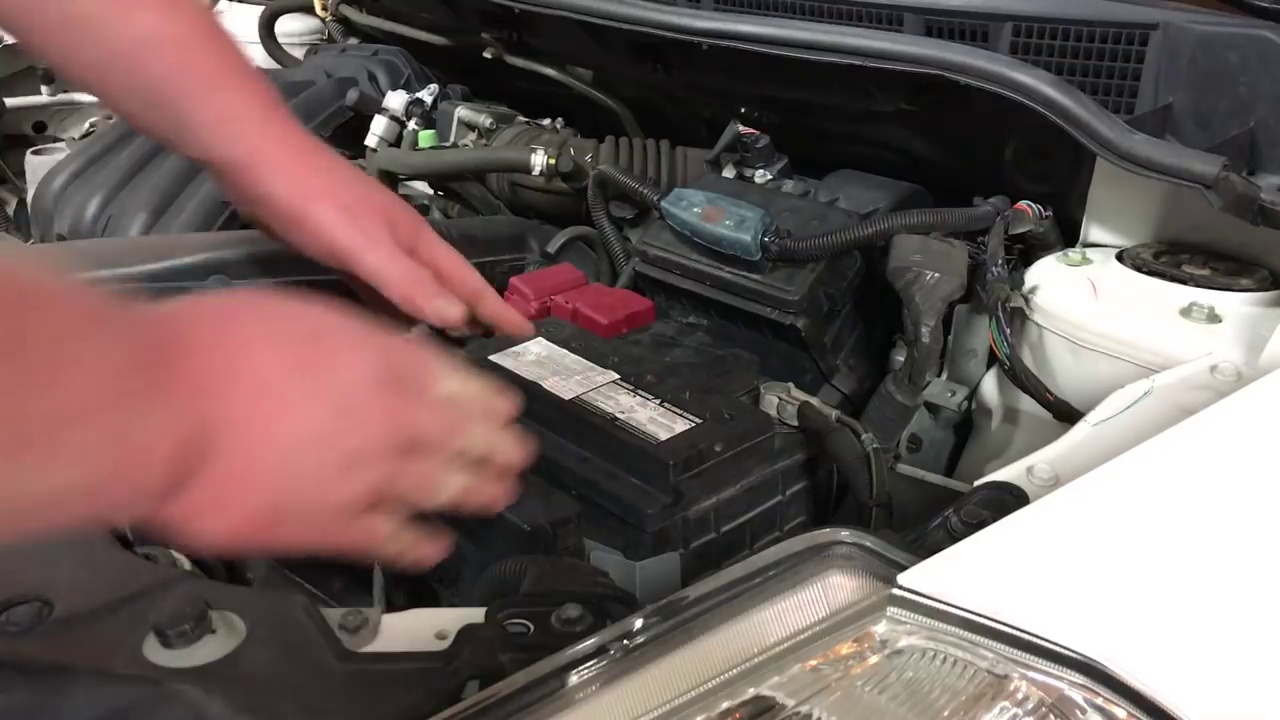battery: (443, 272, 828, 479)
neg_connected: (744, 362, 835, 450)
pos_connected: (488, 276, 663, 344)
pos_touched: (433, 228, 654, 347)
